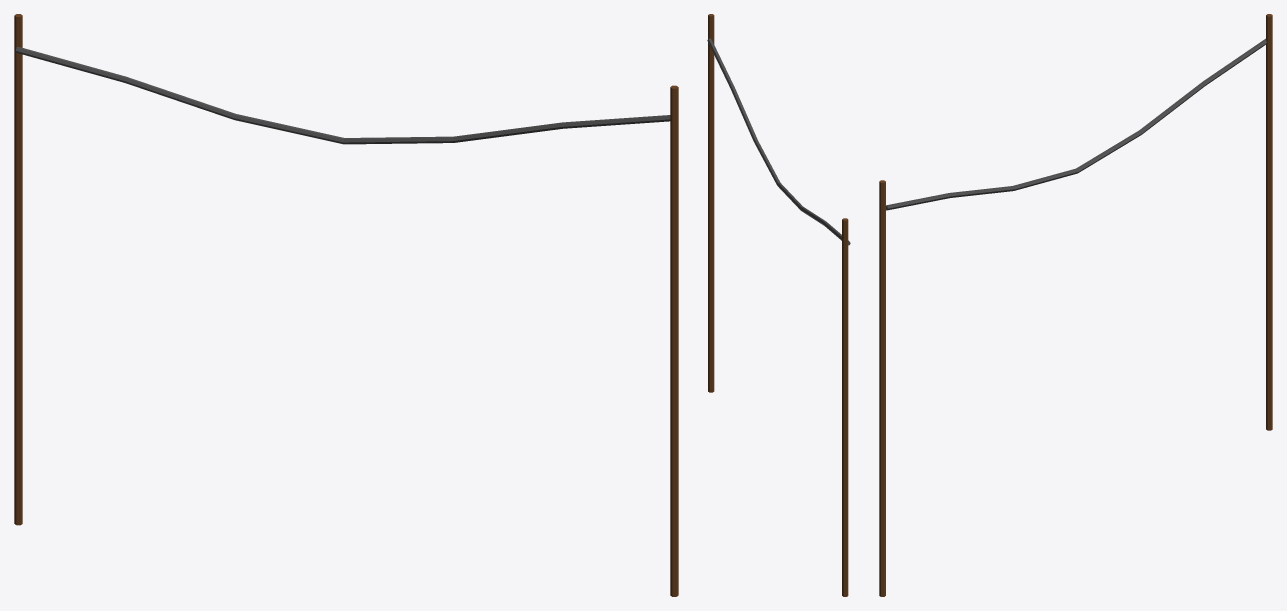
Rendered from Pole_1.fbx.
The picture shows the model from 3 angles, left to right: view 1: azimuth 30°, elevation 25°; view 2: azimuth 150°, elevation 25°; view 3: azimuth 270°, elevation 25°; orthographic projection. The views are drawn at different scales.
Parts seen in each view (by area): view 1: Pole_1; view 2: Pole_1; view 3: Pole_1.
Part boxes in pixels (x1,y1,x2,y2): Pole_1: (14,14,678,596); Pole_1: (707,14,850,596); Pole_1: (879,14,1272,596).
Bounding box in the file's own units: 176 × 200 × 172.
